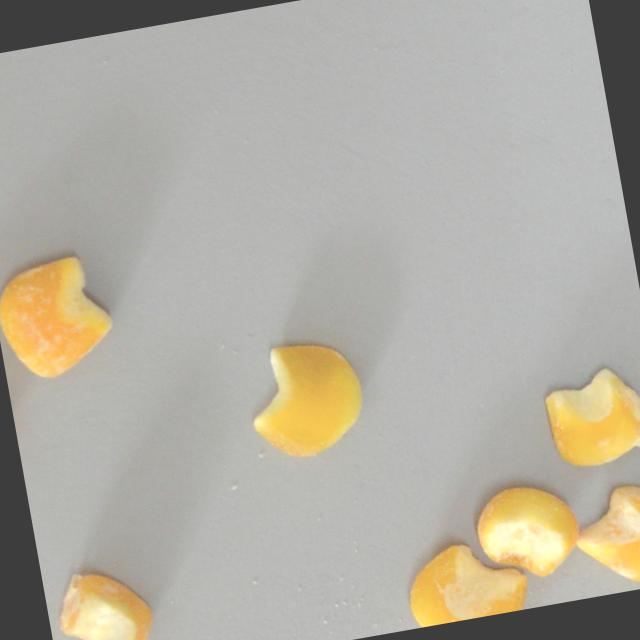no_canjicado: (239, 331, 372, 467)
pelicula: (0, 249, 121, 386), (470, 475, 588, 586), (400, 533, 530, 629), (539, 362, 640, 473), (50, 560, 157, 640), (569, 480, 640, 591)
